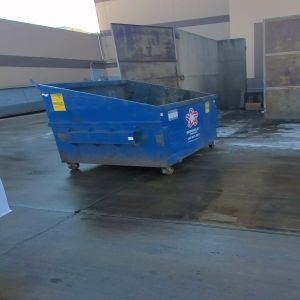Dumpster: (32, 79, 227, 184)
